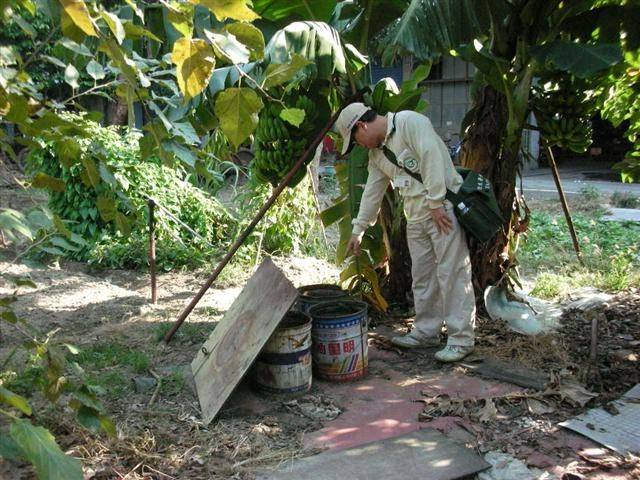bucket: (308, 299, 370, 384), (255, 309, 313, 396)
